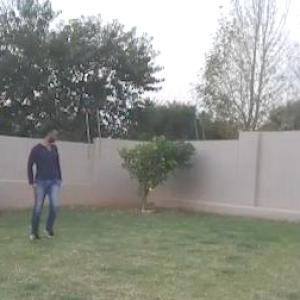follow: (26, 123, 66, 245)
